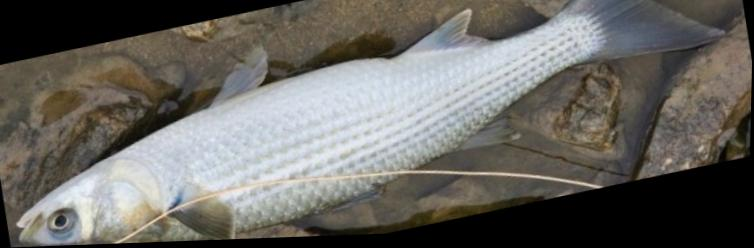fish: (15, 0, 730, 247)
